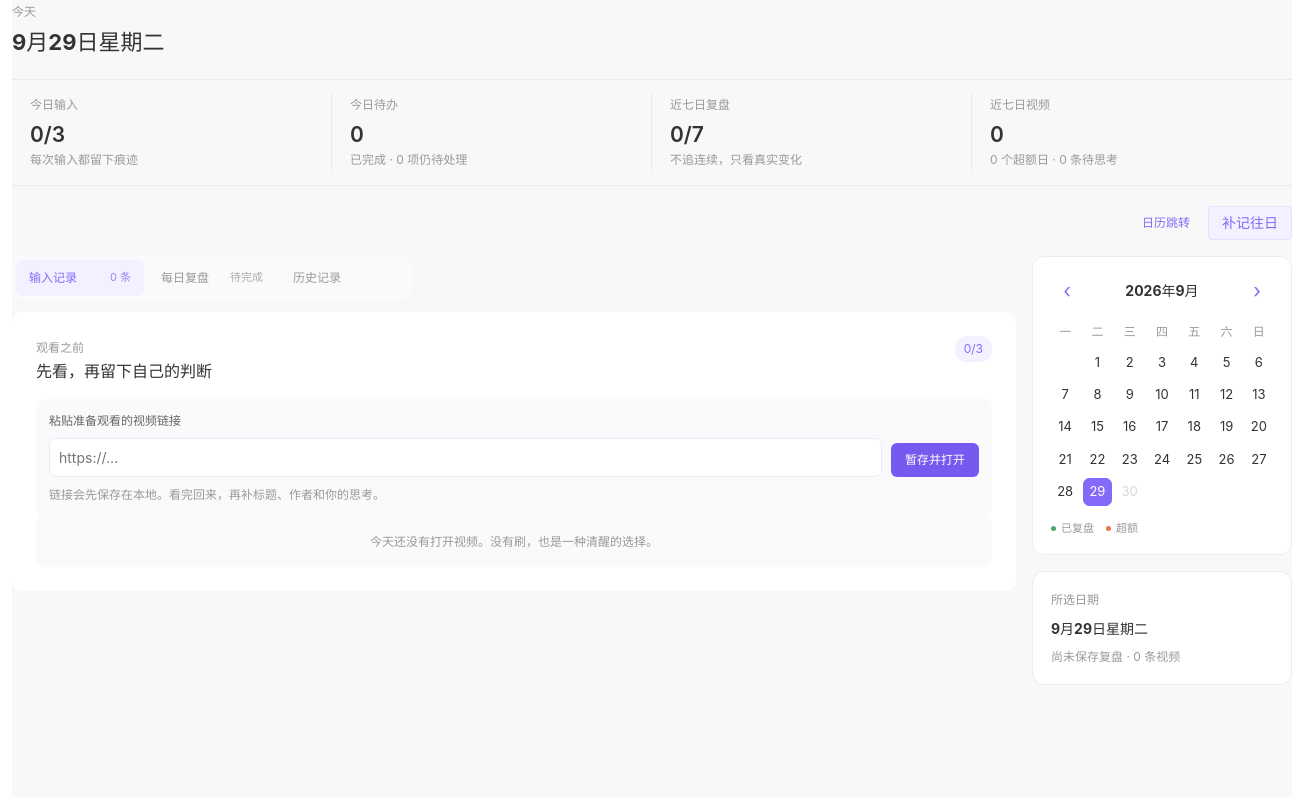
Test: FlowView › switches tabs with the keyboard and keeps an unfinished review draft
The width and height of the screenshot is (1304, 797).
Press ArrowRight in the tab with id "flow-tab-input", box [16,260,144,296]
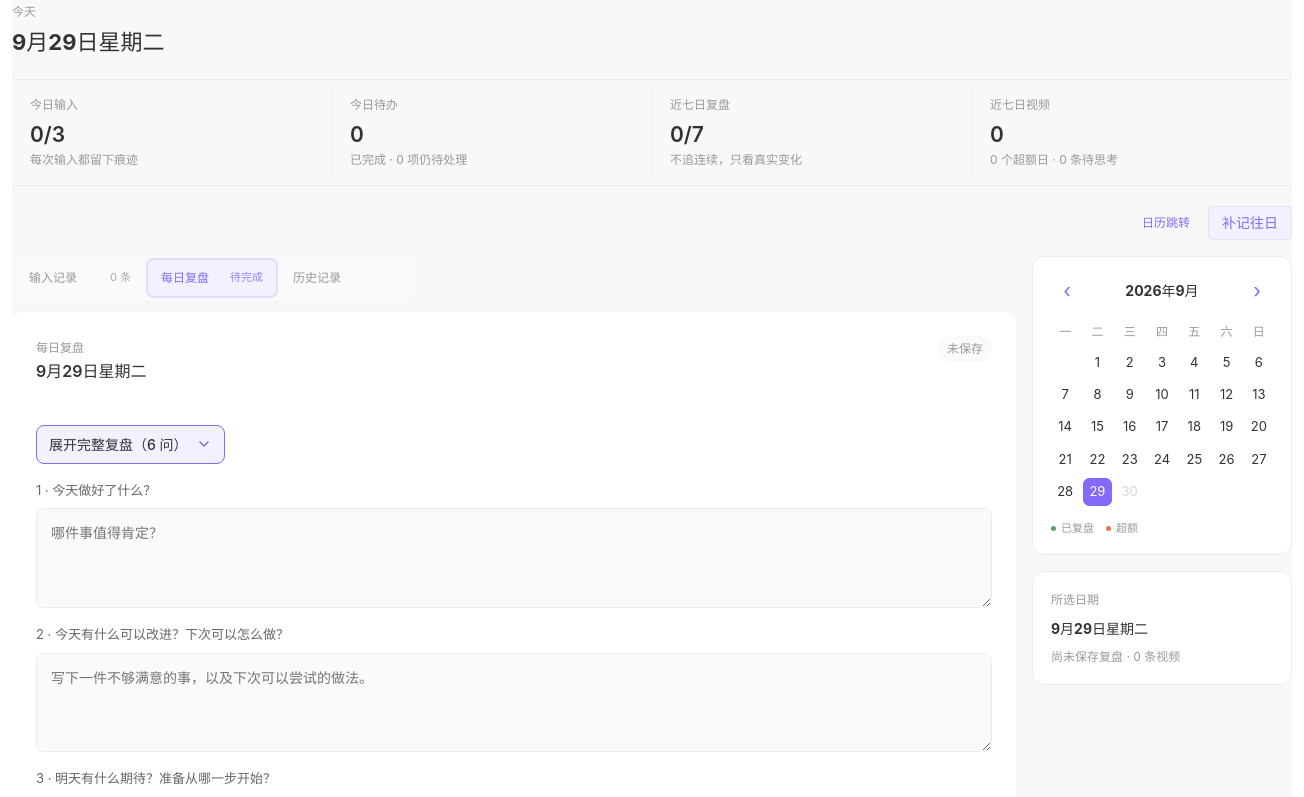
Check: the tab with id "flow-tab-review" is selected, box [148,260,276,296]
Type "没有保存的复盘草稿" into the text box with placeholder "哪件事值得肯定？" at (514, 558), box [36,508,992,608]
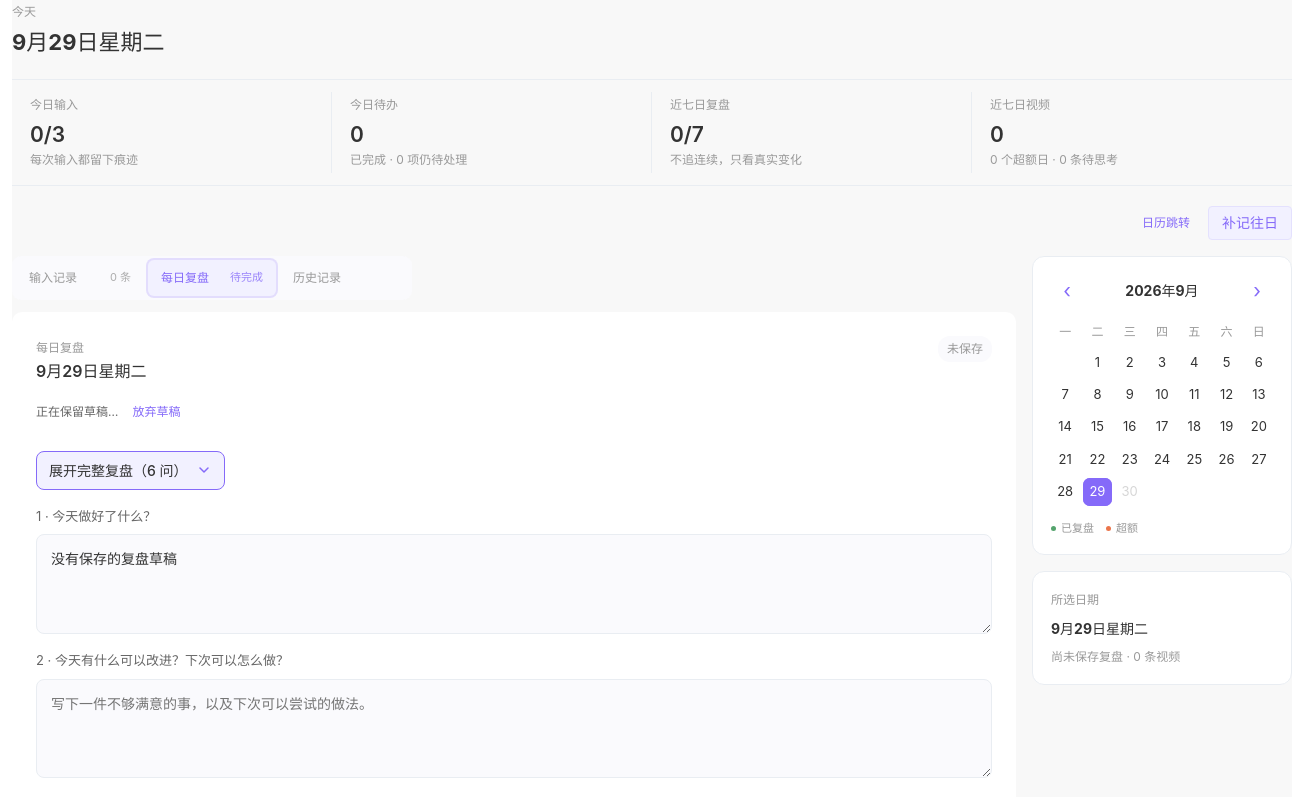
Click the tab with id "flow-tab-input" at (80, 278), box [16,260,144,296]
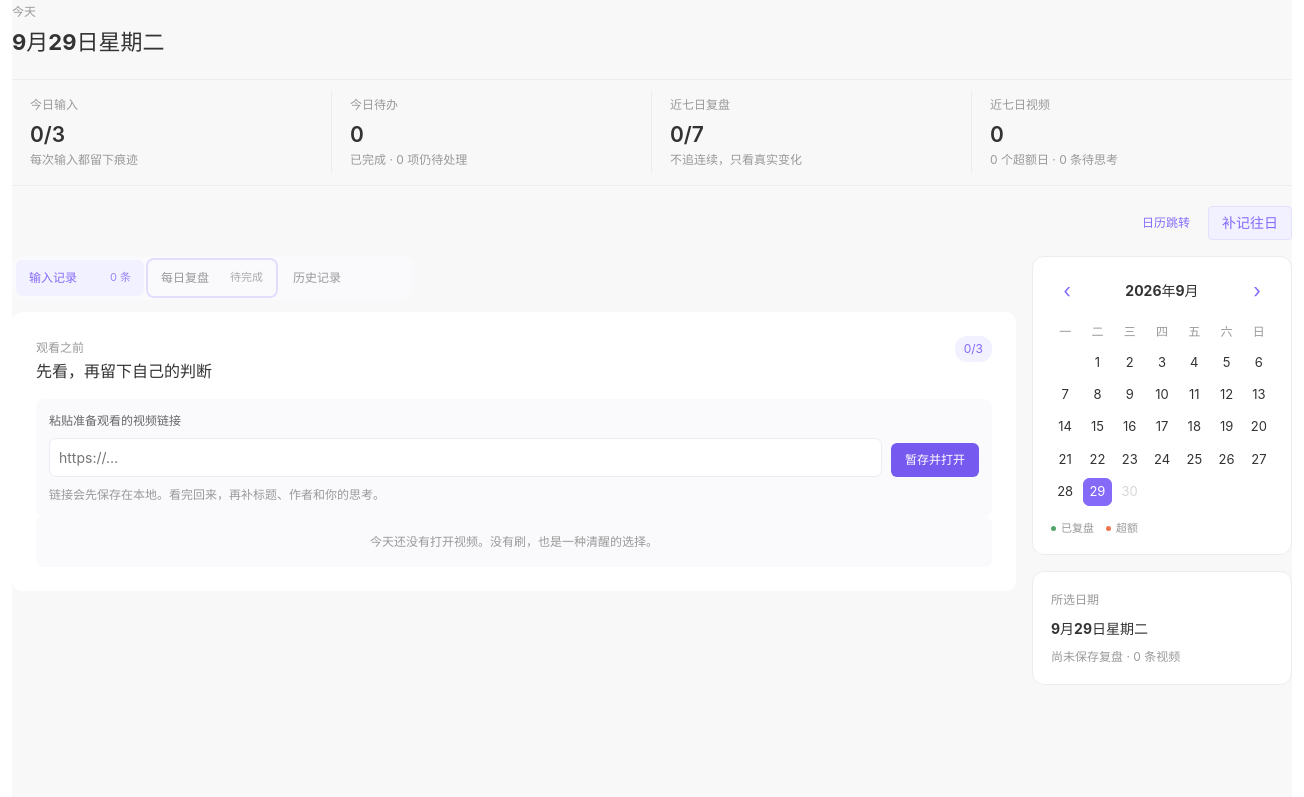
Check: the tab with id "flow-tab-input" is selected, box [16,260,144,296]
Click the tab with id "flow-tab-review" at (212, 278), box [148,260,276,296]
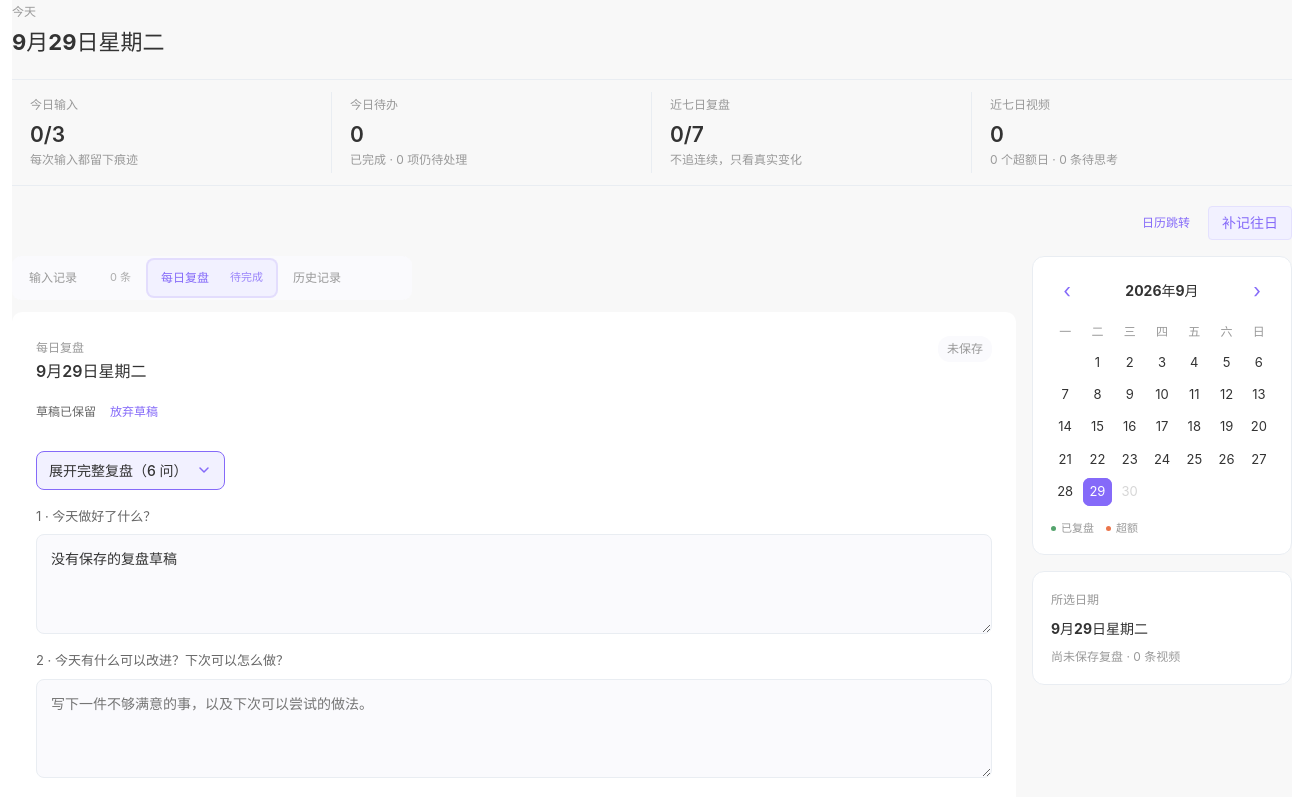
Check: the text box with placeholder "哪件事值得肯定？" holds "没有保存的复盘草稿", box [36,534,992,634]
